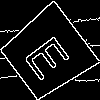E: (22, 28, 79, 82)
